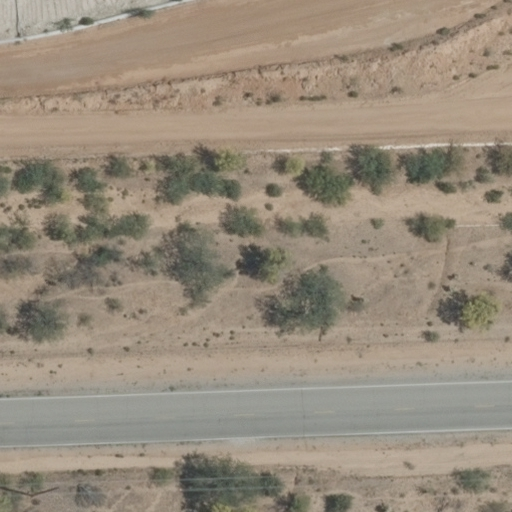DT: (12, 484, 67, 507)
